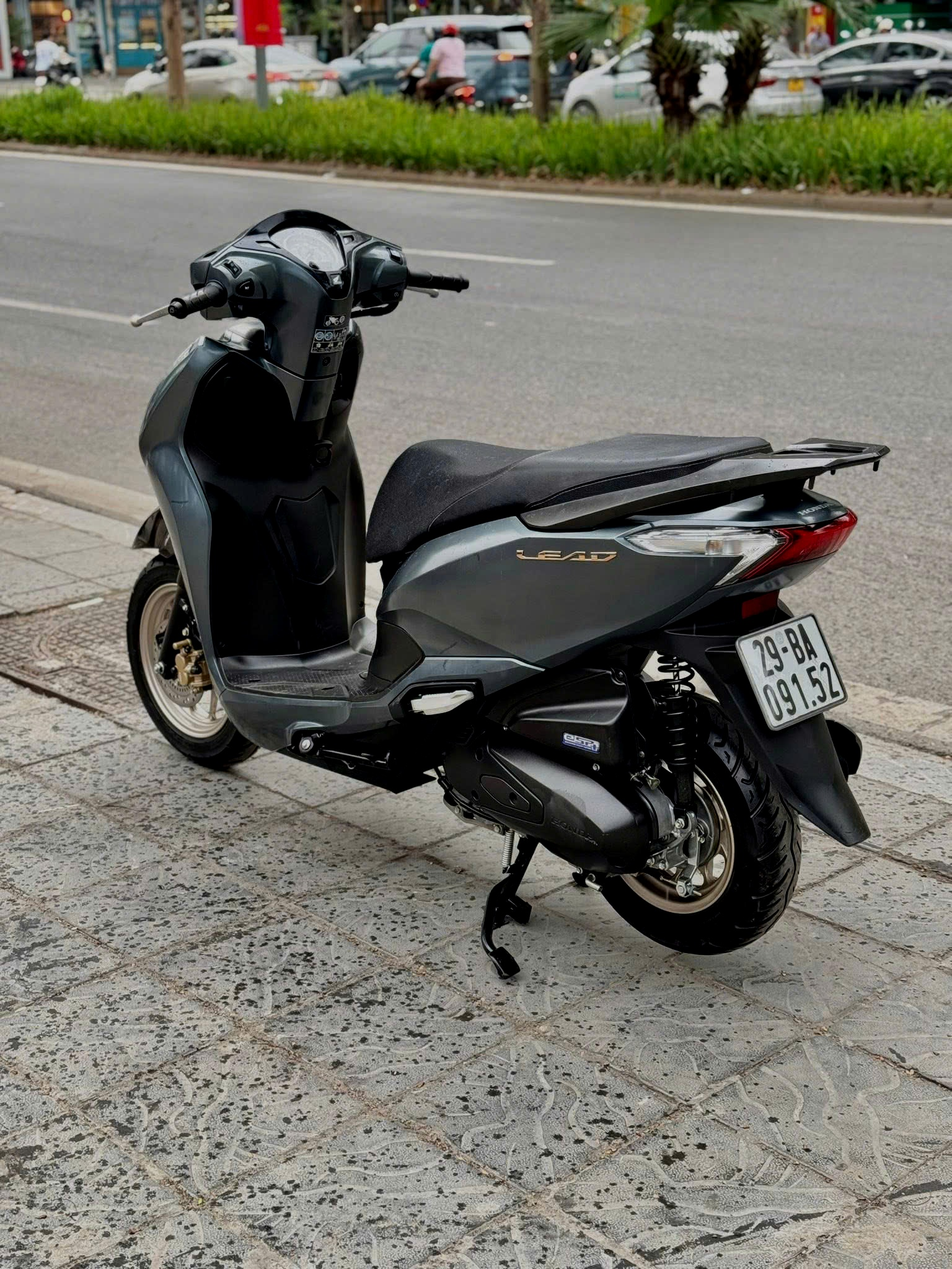Bien-so: (733, 613, 847, 733)
